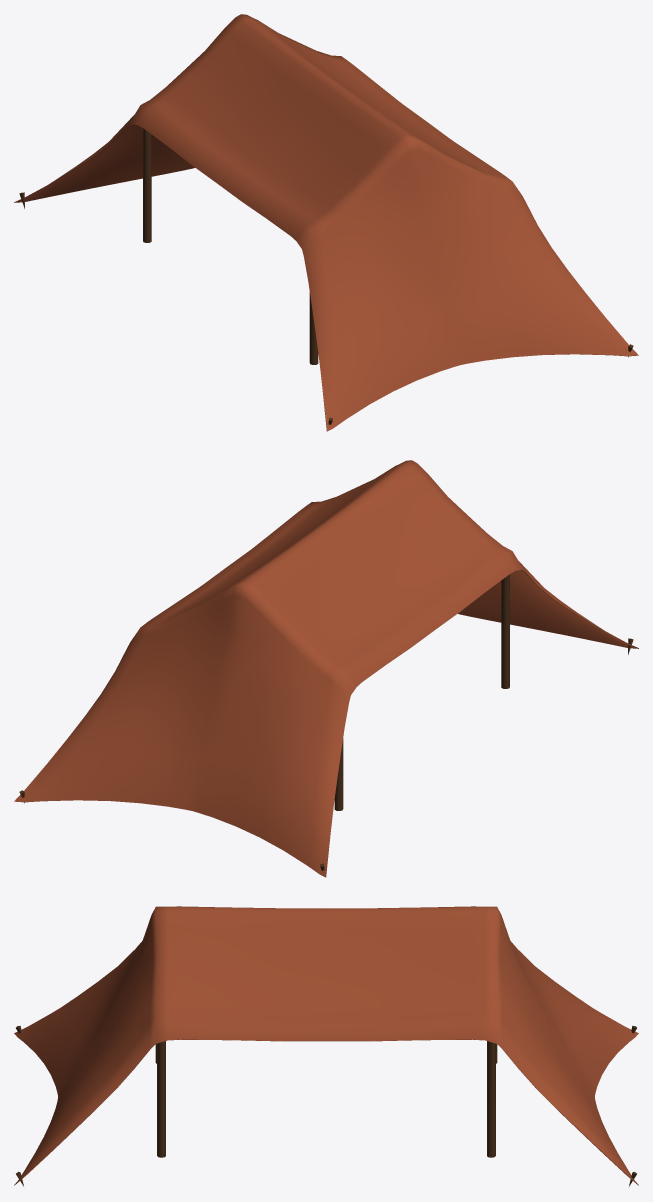
The model's file is tent2.fbx.
3 views of the same model, one above another, from view 1: azimuth 30°, elevation 25°; view 2: azimuth 150°, elevation 25°; view 3: azimuth 270°, elevation 25° (orthographic).
Visible parts, largest first — view 1: tent.subdiv, supports.001; view 2: tent.subdiv, supports.001; view 3: tent.subdiv, supports.001.
Part boxes in pixels (box(x1,y1,x2,y2)): tent.subdiv: box(14, 14, 638, 431); supports.001: box(143, 128, 318, 364); tent.subdiv: box(14, 460, 638, 877); supports.001: box(334, 574, 509, 810); tent.subdiv: box(14, 906, 638, 1186); supports.001: box(155, 1041, 497, 1157).
Bounding box in the file's own units: 534 × 340 × 929.
